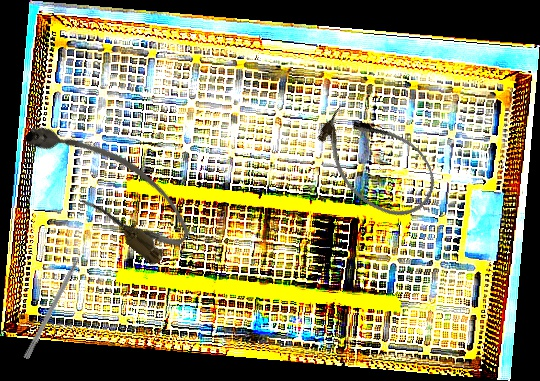Cannula: (15, 98, 201, 271), (302, 92, 450, 233)
Pusher: (23, 242, 90, 361)
